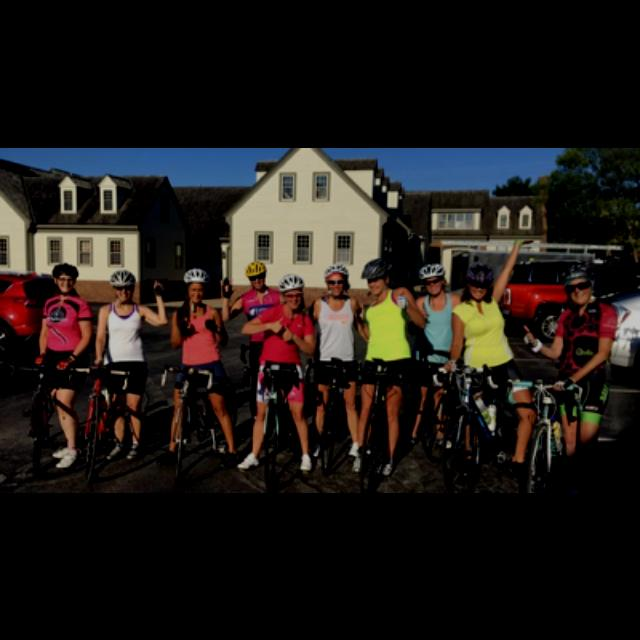With Helmet: (561, 252, 595, 310), (354, 254, 396, 296), (464, 259, 498, 309), (413, 261, 451, 299), (275, 268, 309, 310), (43, 258, 83, 292), (107, 262, 137, 306), (179, 260, 209, 302), (322, 258, 352, 296), (242, 258, 268, 288)
